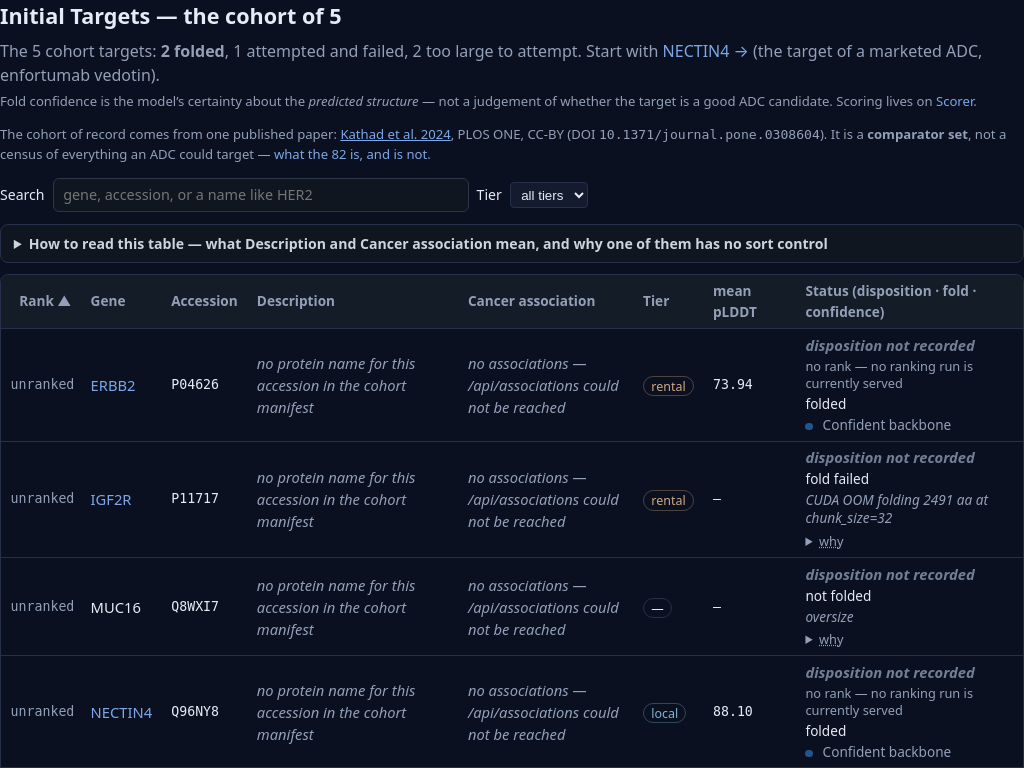
the search box, and the name on the drug label › still finds a row by gene and by accession
In the search field labelled "Search": point(261, 195) [53,178,469,212], type "Q96NY8"
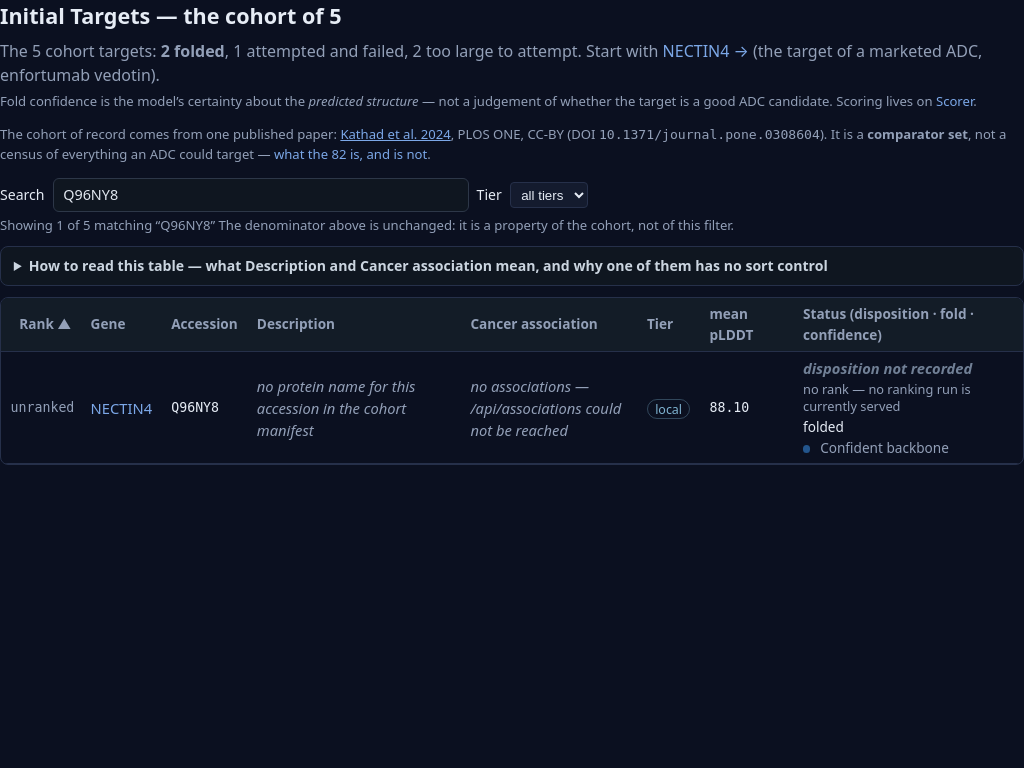
Expected: the table shows "NECTIN4", [91,398,152,418]
